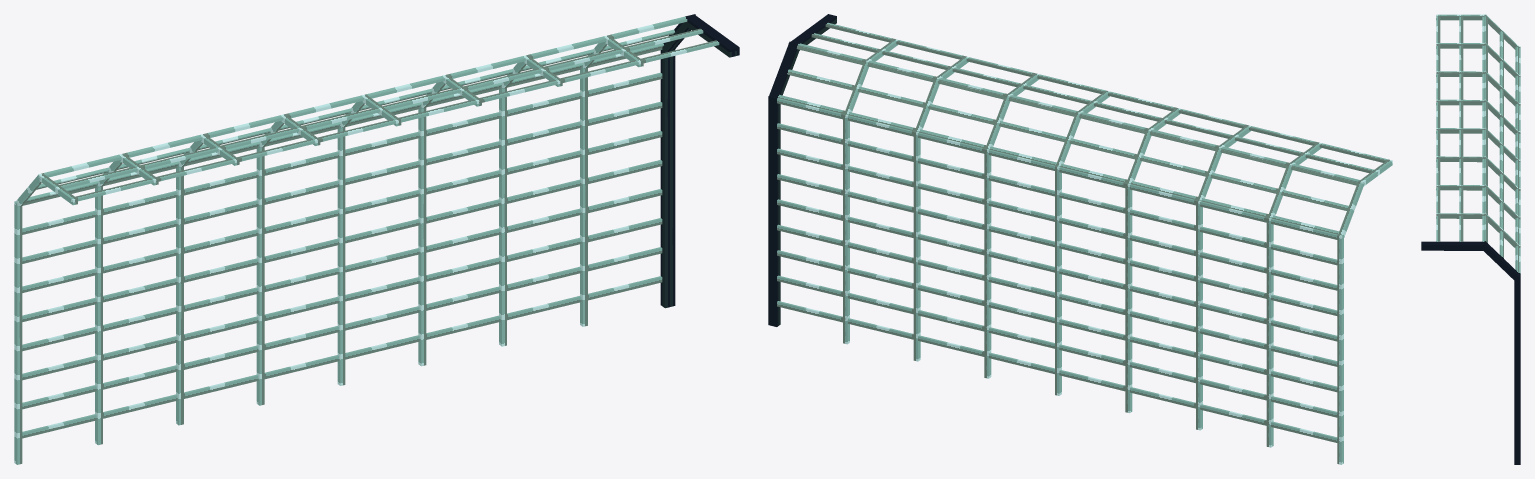
The model's file is 护栏a.gltf.
The picture shows the model from 3 angles, left to right: view 1: azimuth 30°, elevation 25°; view 2: azimuth 150°, elevation 25°; view 3: azimuth 270°, elevation 25°; orthographic projection. The views are drawn at different scales.
Parts seen in each view (by area): view 1: Group, Group-2, Group-1; view 2: Group, Group-1, Group-2; view 3: Group-2, Group-1, Group.
Boxes of the visible parts, left/top/right/bottom form: Group: left=14, top=46, right=675, bottom=464; Group-2: left=38, top=15, right=739, bottom=205; Group-1: left=15, top=14, right=695, bottom=207; Group: left=768, top=96, right=1343, bottom=464; Group-1: left=769, top=41, right=1364, bottom=238; Group-2: left=788, top=14, right=1392, bottom=186; Group-2: left=1421, top=14, right=1486, bottom=250; Group-1: left=1481, top=14, right=1518, bottom=280; Group: left=1514, top=46, right=1520, bottom=464.
Size of the model in its own units: 260 by 116 by 47.23.
Materials: 1 (1 with a texture image).
